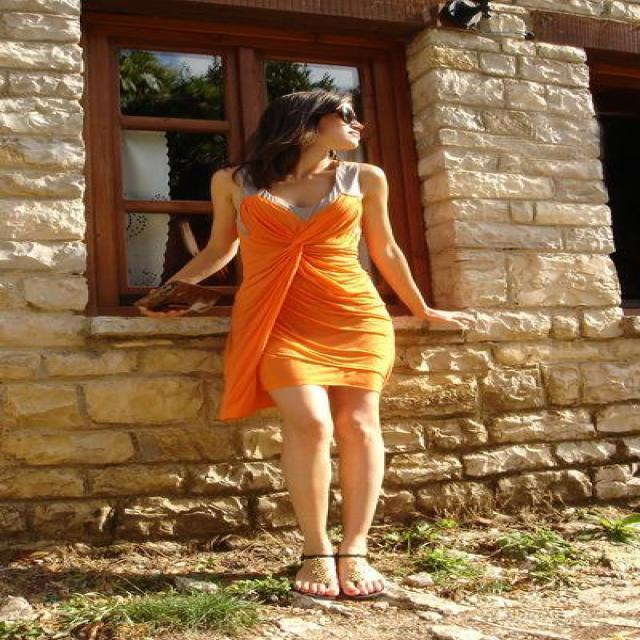dress: (221, 195, 440, 418)
shoe: (275, 525, 368, 593)
